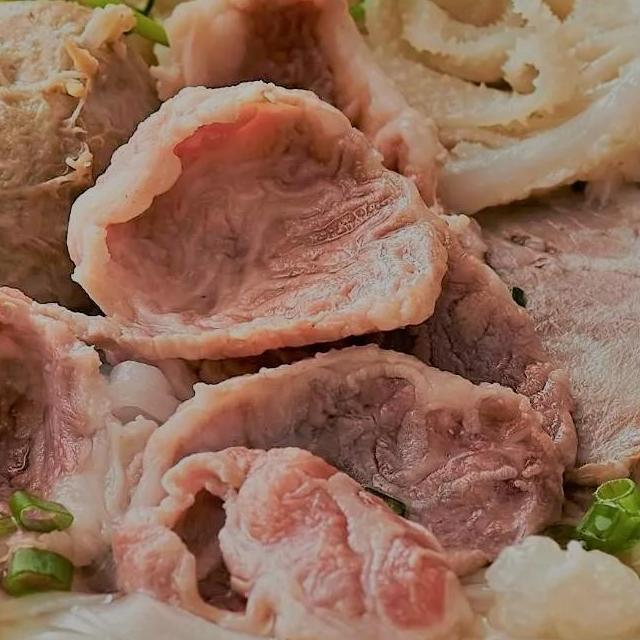pho bo: (0, 0, 640, 640)
thit bo: (97, 331, 588, 640), (40, 71, 484, 381), (141, 0, 468, 252), (489, 2, 640, 513), (0, 263, 210, 581)
